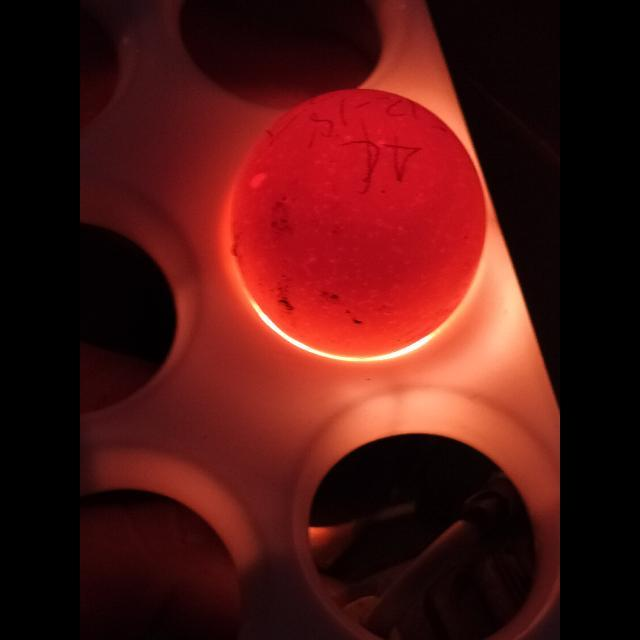Infertile: (228, 89, 484, 344)
